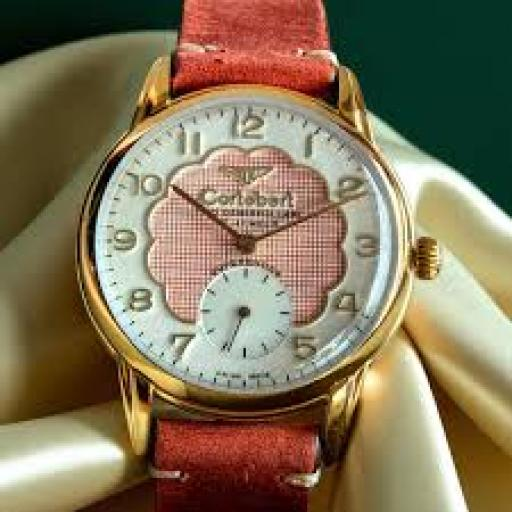KolSaati: (39, 2, 447, 507)
